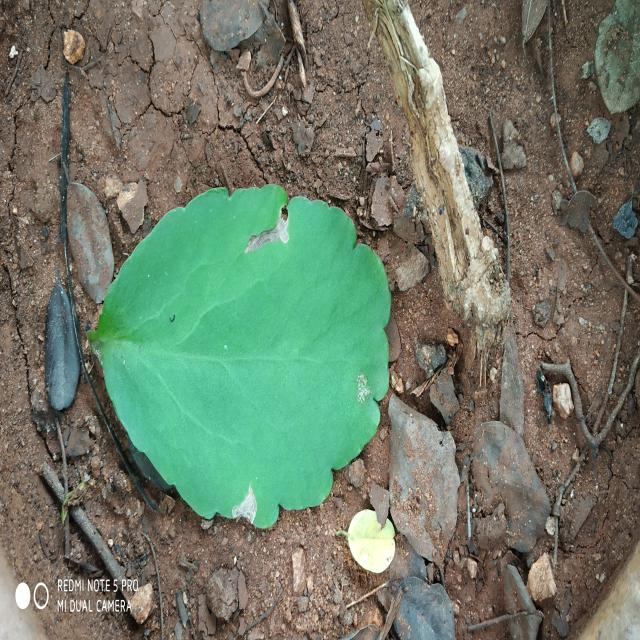defectedspinach: (245, 204, 289, 253), (232, 484, 258, 524), (356, 371, 371, 404)
spinach: (88, 184, 390, 529)
